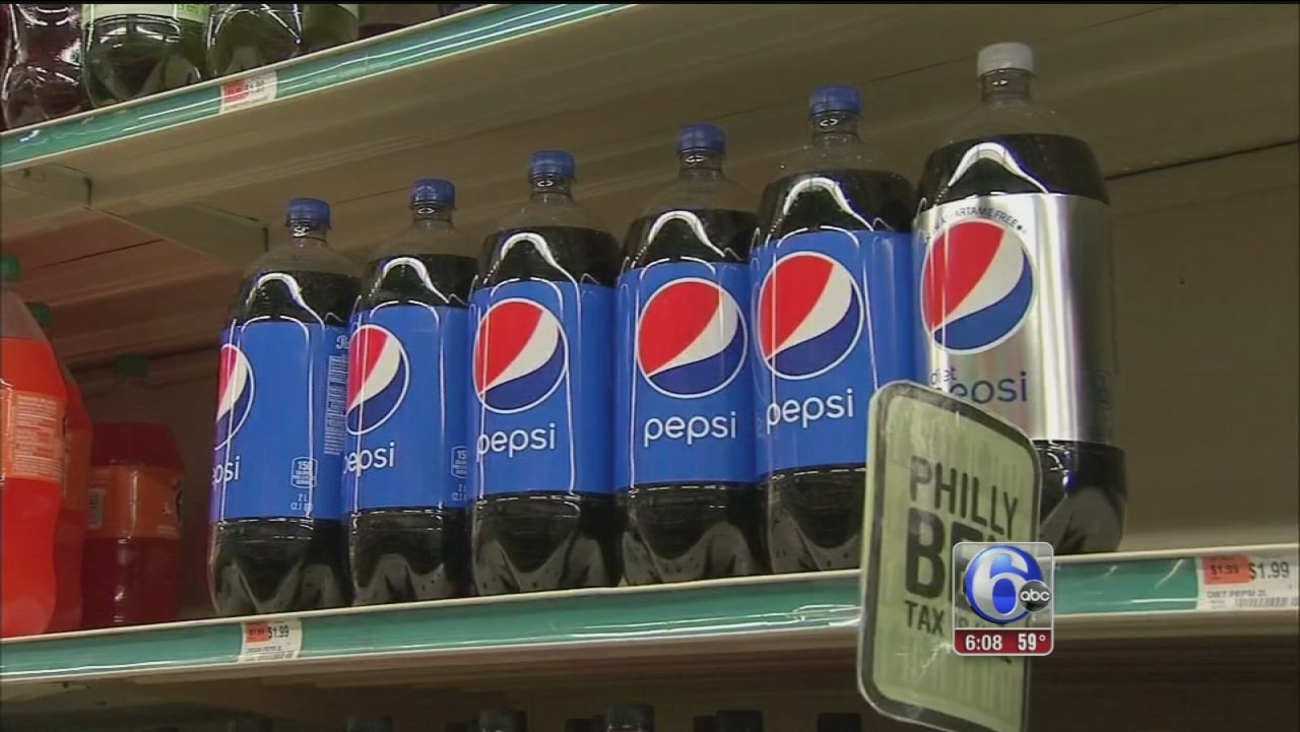pepsi: (918, 220, 1035, 349), (753, 249, 861, 373), (633, 278, 745, 393), (633, 282, 745, 393), (471, 298, 562, 410), (346, 325, 406, 427), (216, 343, 248, 448)
